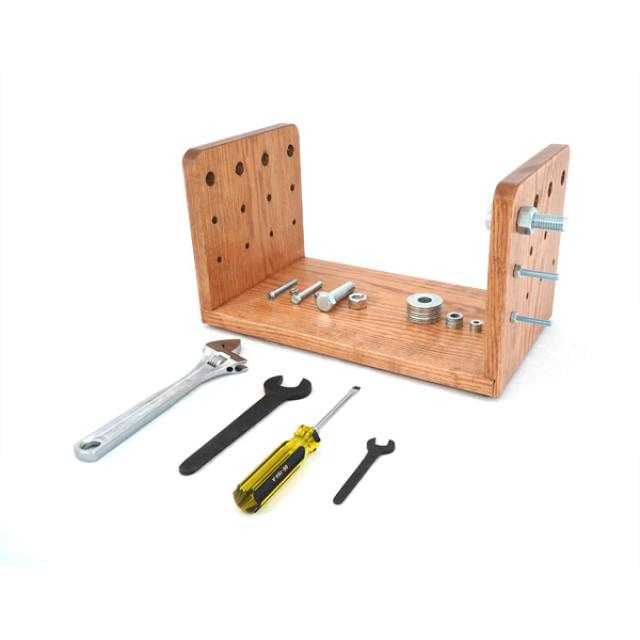Screwdriver: (234, 386, 360, 512)
